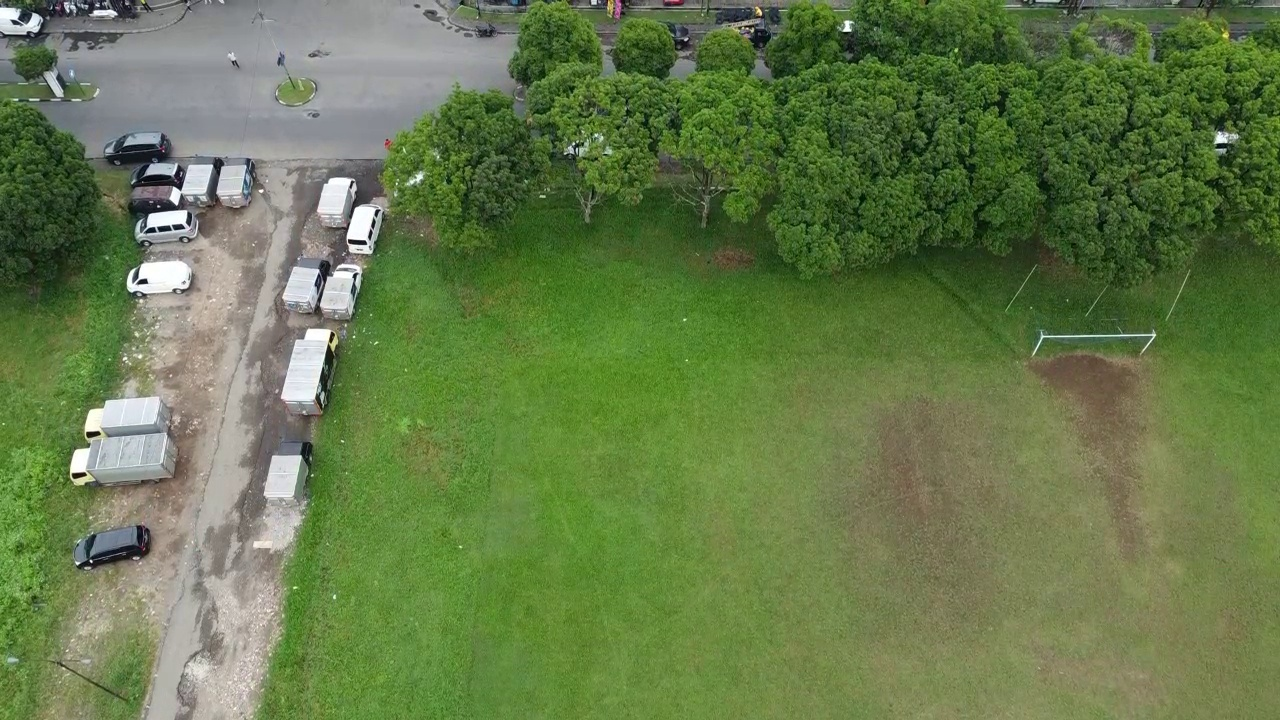mobil: (76, 520, 154, 573), (341, 200, 387, 262), (104, 128, 173, 165), (127, 265, 197, 298), (136, 211, 201, 244), (125, 160, 184, 190), (1, 2, 46, 39), (126, 185, 184, 211)
